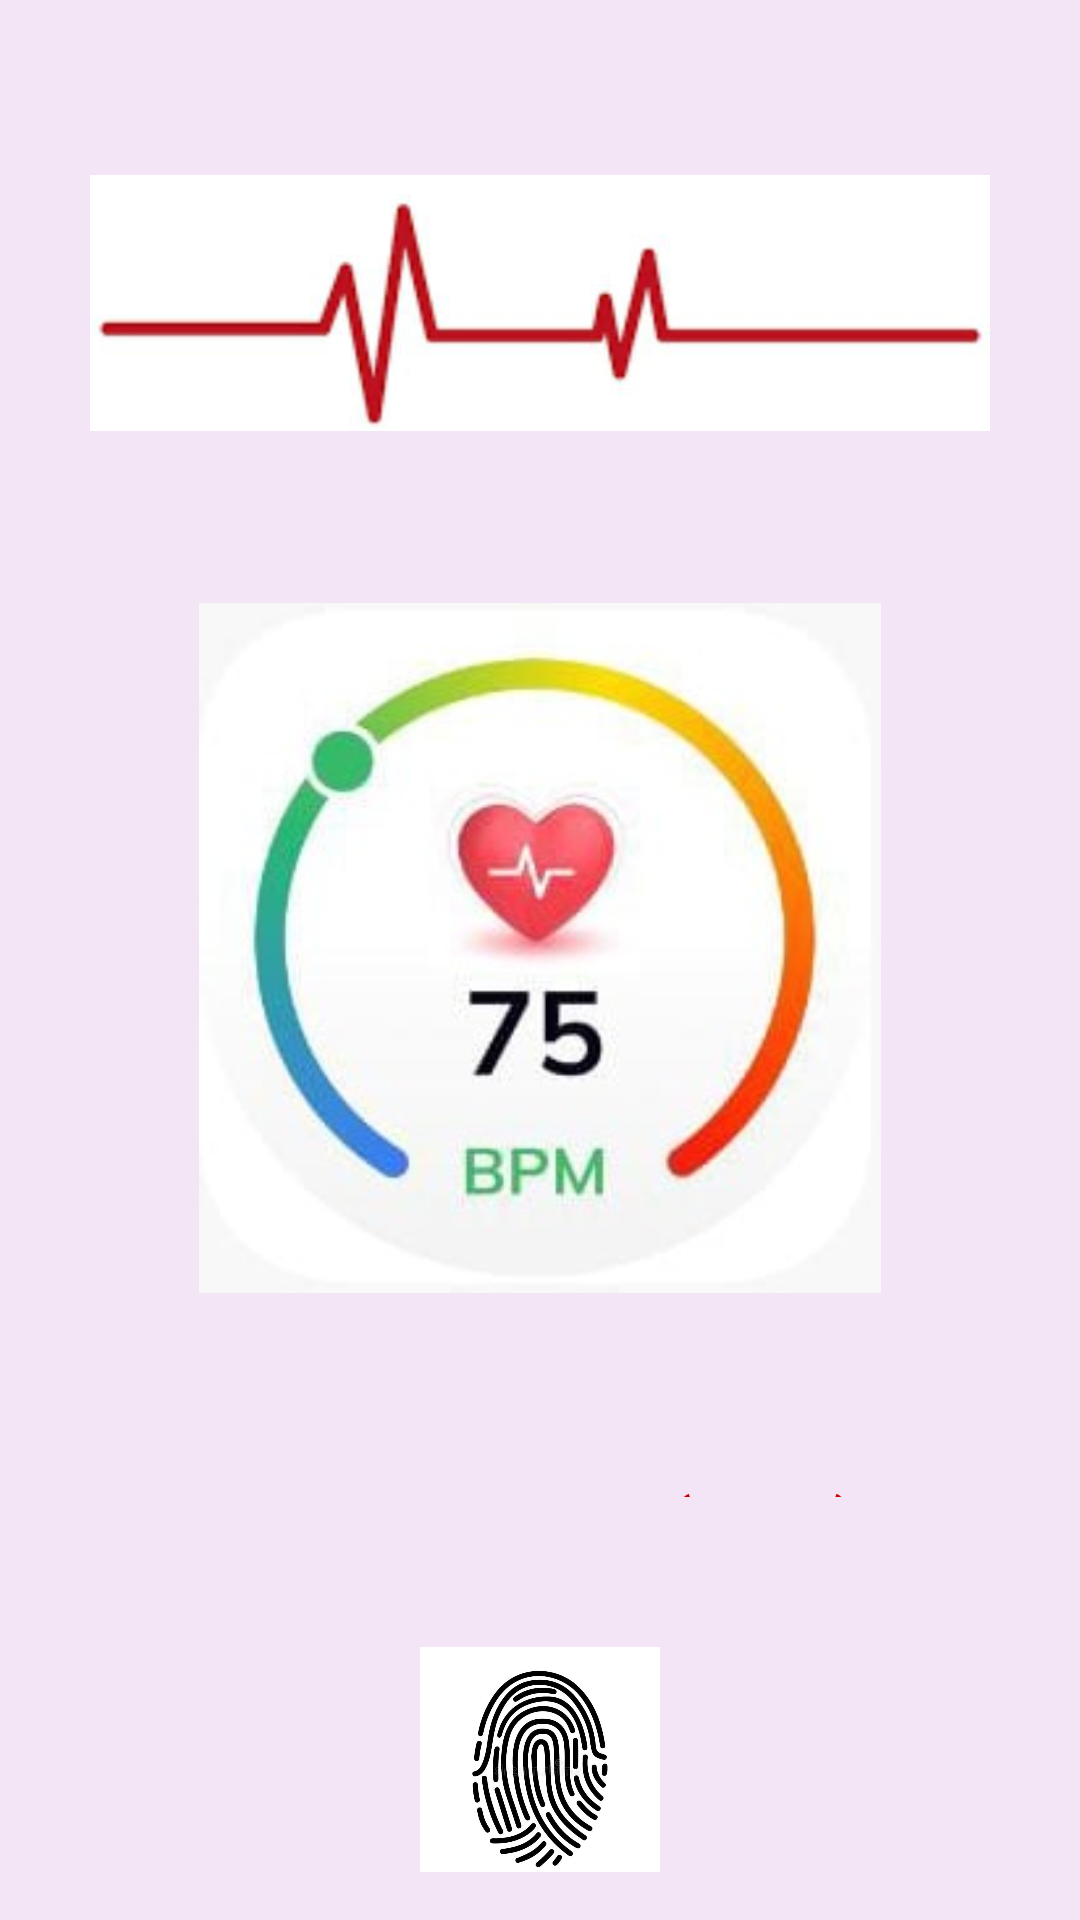

Icon bounding boxes for this 1080x1920 phone screenshot, format (x1, y1, x2, y2):
Fingerprint Icon: (420, 1647, 660, 1872)
